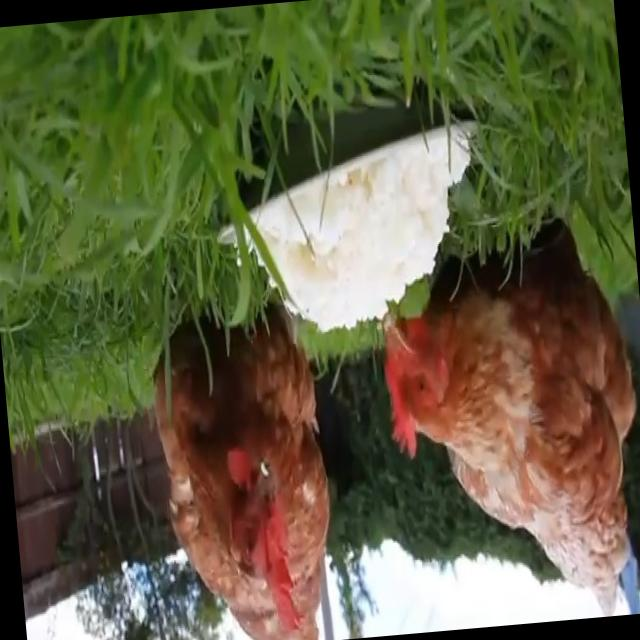feeding: (363, 209, 640, 634)
